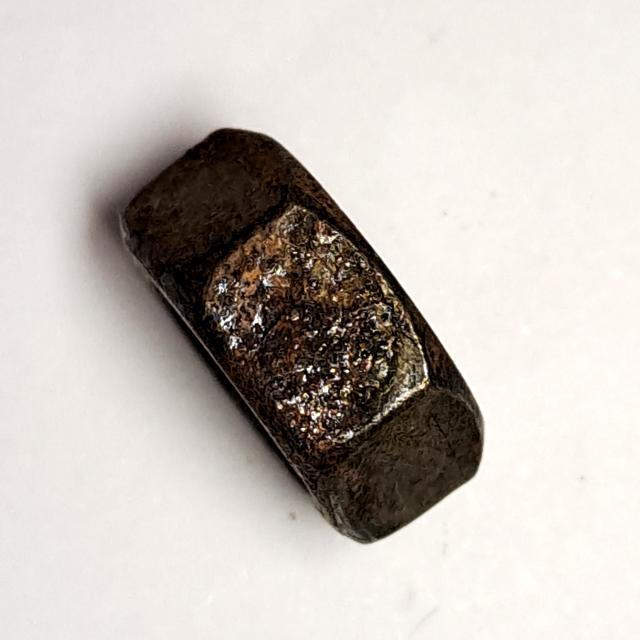Side_Rust: (91, 92, 522, 569)
